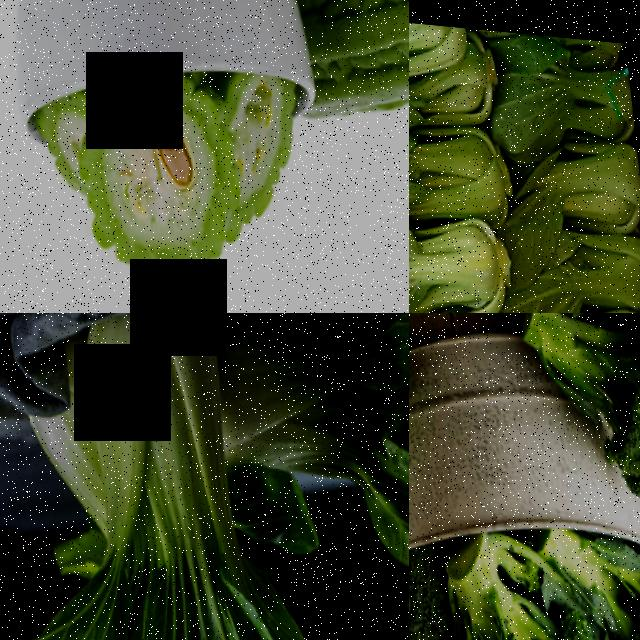bitter gourd: (59, 45, 264, 275), (286, 0, 409, 145)
bok choy: (0, 313, 320, 640), (231, 313, 409, 619), (510, 202, 640, 308), (409, 205, 526, 313), (490, 64, 640, 148), (502, 130, 640, 216), (409, 119, 504, 227), (485, 21, 630, 81), (409, 58, 483, 134), (409, 9, 463, 72)
broccoli: (499, 313, 640, 505), (434, 509, 595, 640), (548, 526, 640, 640)
